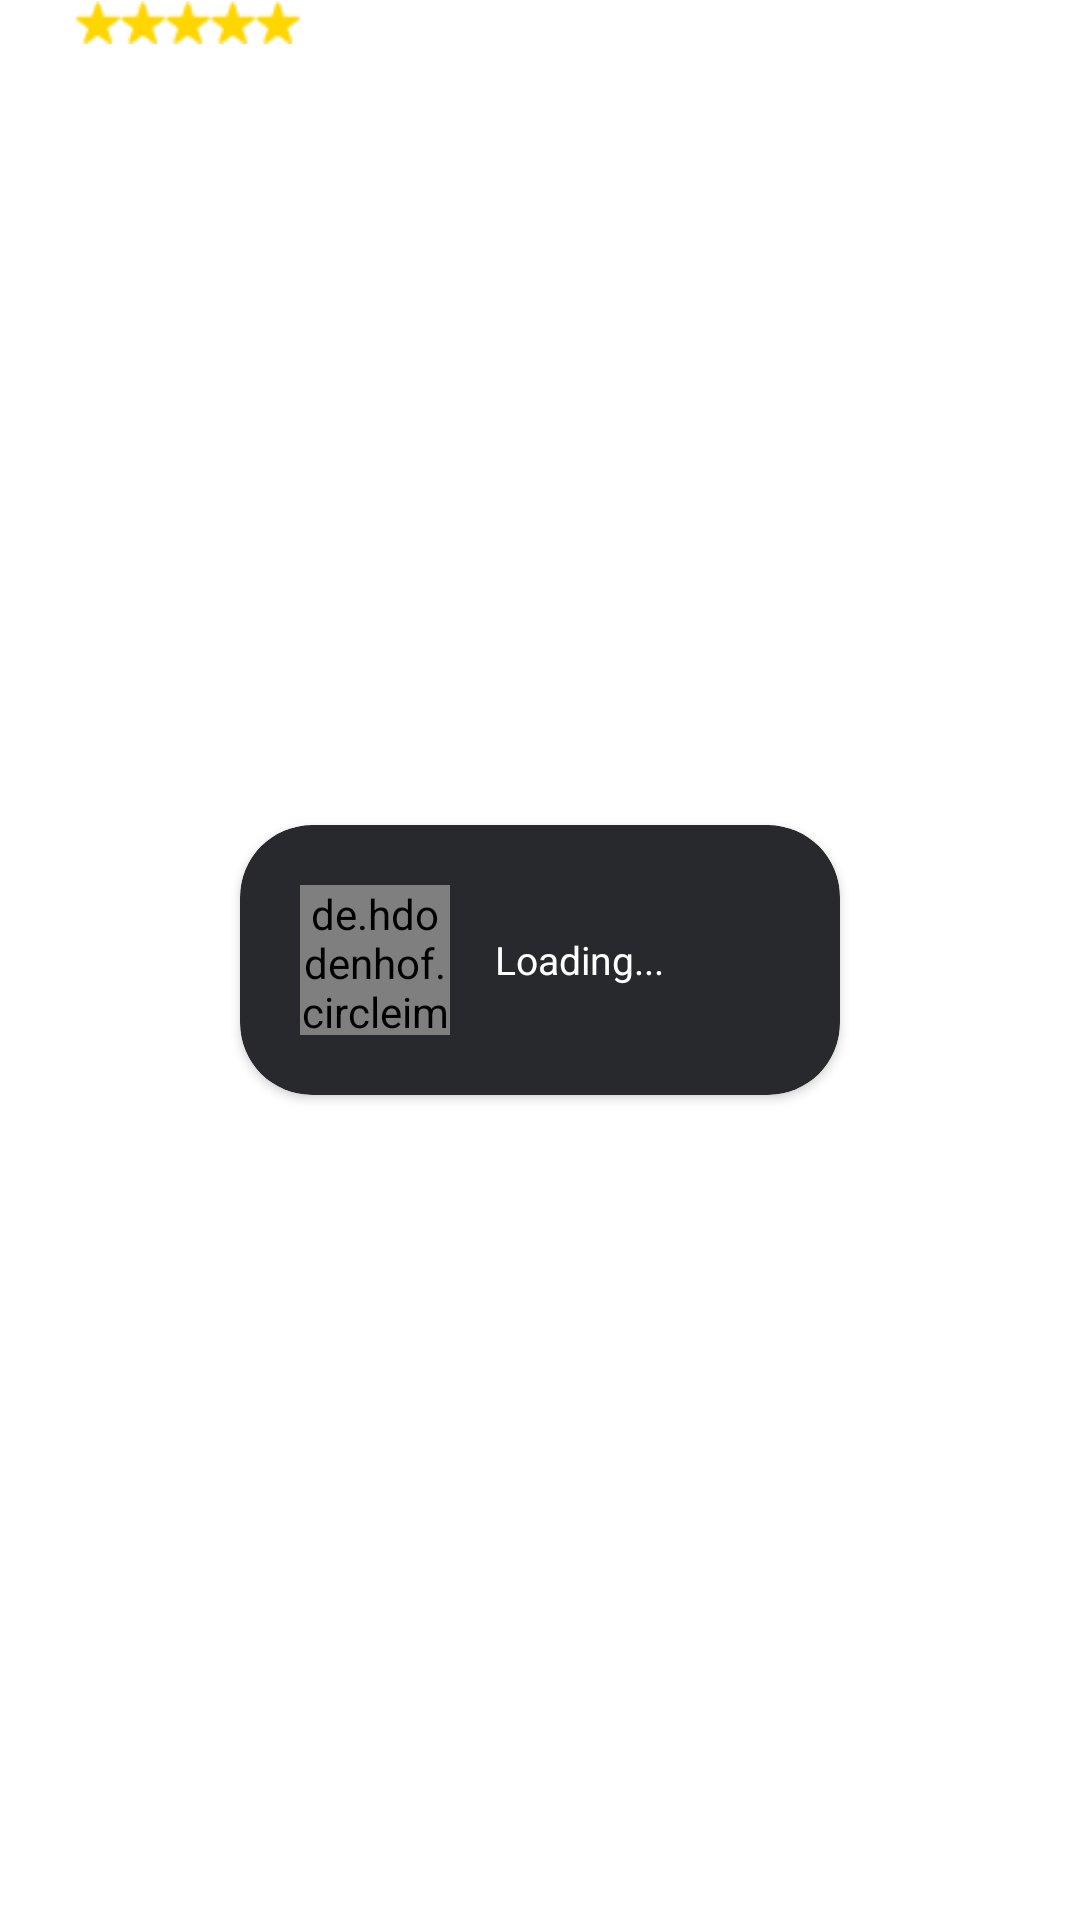

Named icons in this screenshot (1080 × 1920) and their bounding boxes, [x1, y1, x2, y2]:
star: [75, 1, 120, 44], [120, 1, 165, 44], [165, 1, 210, 44], [210, 1, 255, 44], [255, 1, 300, 44]
